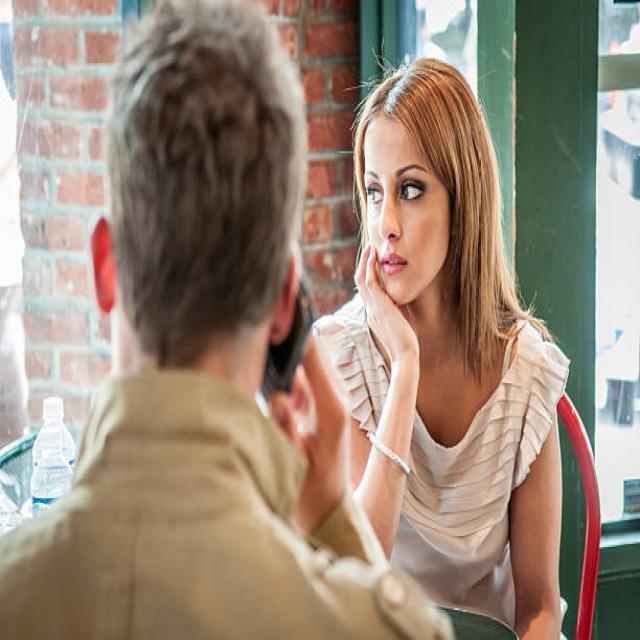Looking away: (362, 110, 449, 304)
